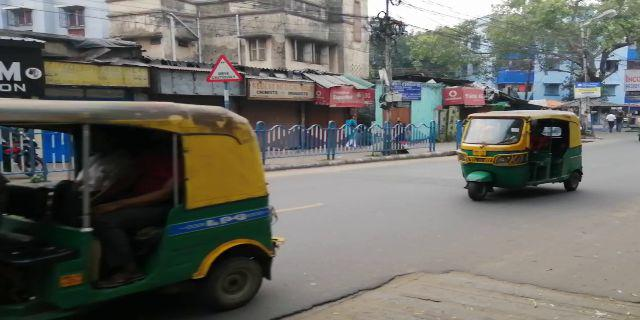Autorickshaw: (11, 102, 277, 296), (459, 113, 585, 205)
